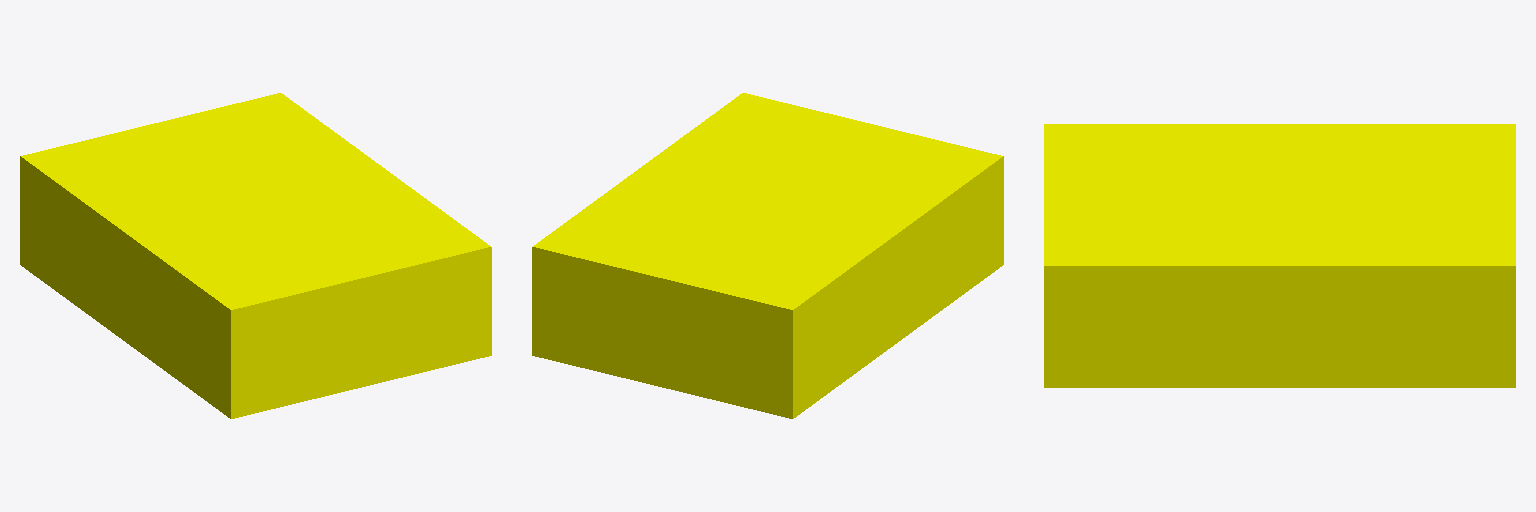
URDF robot description (UNNAMED_76):
<?xml version="1.0"?>
<robot  name="UNNAMED_76" >
 <link  name="object_a" >
  <inertial >
   <origin  rpy="0 0 0"  xyz="0.0 0.0 0.0" />
   <mass  value="1.0" />
   <inertia  iyy="0.001"  ixz="0"  ixy="0"  iyz="0"  ixx="0.001"  izz="0.001" />
  </inertial>
  <collision >
   <origin  rpy="0 0 0"  xyz="0 0 0" />
   <geometry >
    <box  size="0.05 0.07 0.02" />
   </geometry>
  </collision>
  <visual >
   <origin  rpy="0 0 0"  xyz="0 0 0" />
   <geometry >
    <box  size="0.05 0.07 0.02" />
   </geometry>
   <material  name="color" >
    <color  rgba="1.0 1.0 0.0 1.0" />
   </material>
  </visual>
 </link>
</robot>

--- Render facts (derived) ---
Views: 3 orthographic renders of the robot side by side, from view 1: azimuth 30°, elevation 25°; view 2: azimuth 150°, elevation 25°; view 3: azimuth 270°, elevation 25°.
Robot: UNNAMED_76 — 1 links, 0 joints (none); root link object_a; default pose: every joint at zero.
Visible links, largest first — view 1: object_a; view 2: object_a; view 3: object_a.
Boxes of the visible links, bbox=[...] form: object_a: bbox=[20, 93, 491, 418]; object_a: bbox=[532, 93, 1003, 418]; object_a: bbox=[1044, 124, 1515, 387].
Bounding box of the posed robot: 0.05 × 0.07 × 0.02 m (x, y, z).
Geometry: primitives only (box / cylinder / sphere), no mesh files.